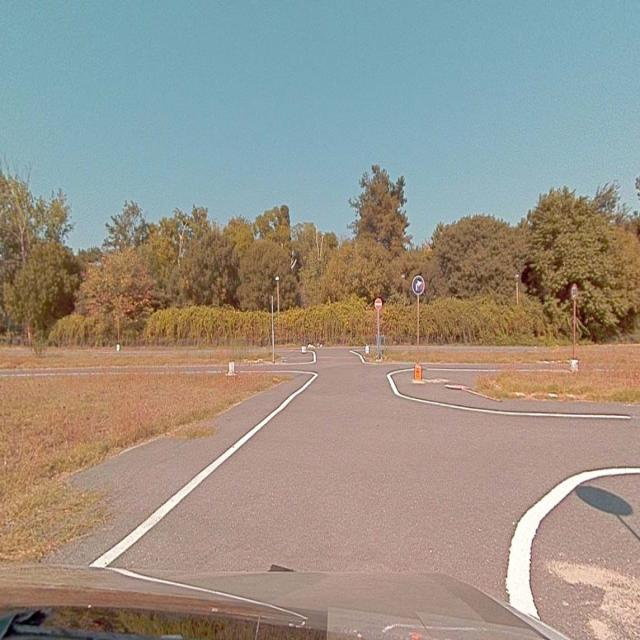girisyok: (373, 298, 382, 310)
sag: (412, 276, 424, 294)
